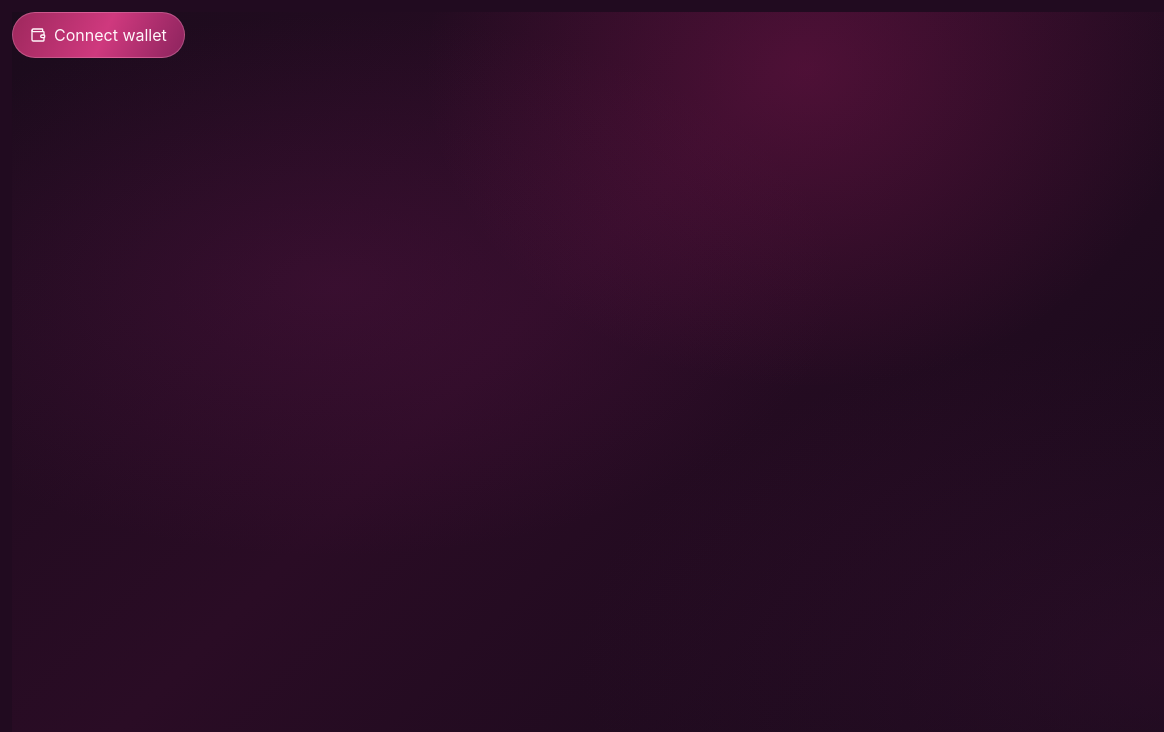
Test case: injected wallet control › surfaces wallet connection rejection without retaining an account
The width and height of the screenshot is (1164, 732).
What coordinates should you click on to do the following:
click the button "Connect wallet"
I would click on:
 (98, 35)
Its box is top-left (12, 12), bottom-right (185, 58).
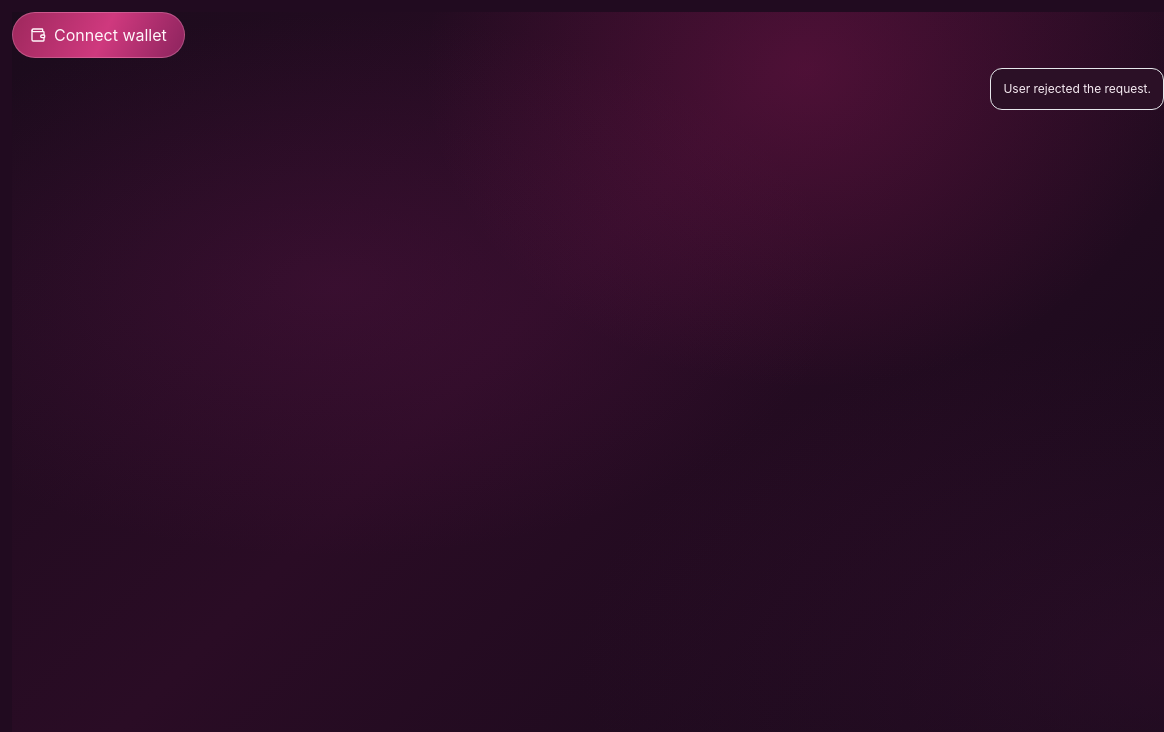
Check: the message reads "User rejected the request.", box top-left (1003, 81), bottom-right (1151, 96)
